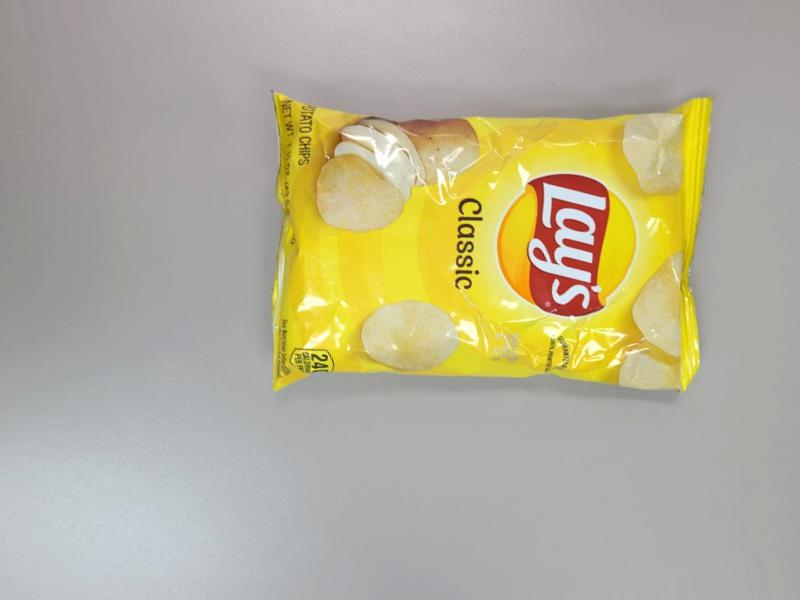lays: (286, 99, 709, 415)
